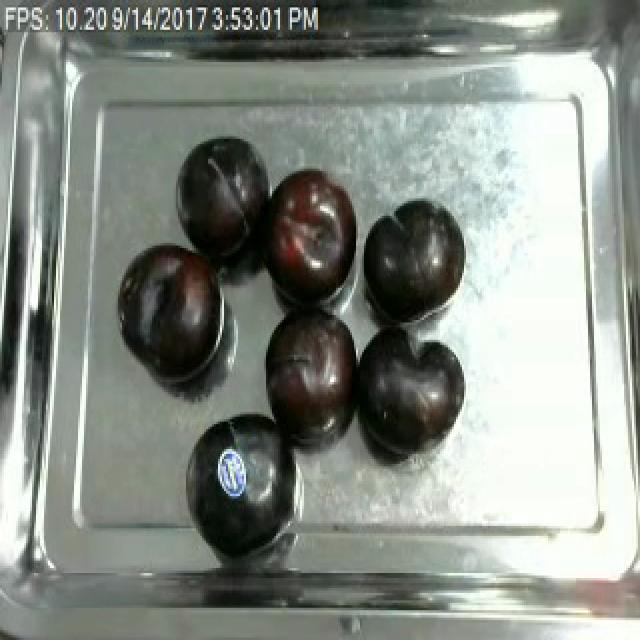Fruit: (176, 399, 306, 558), (250, 158, 362, 312), (256, 300, 364, 449), (120, 236, 228, 384), (350, 332, 468, 464), (358, 191, 470, 327), (170, 129, 272, 265)
